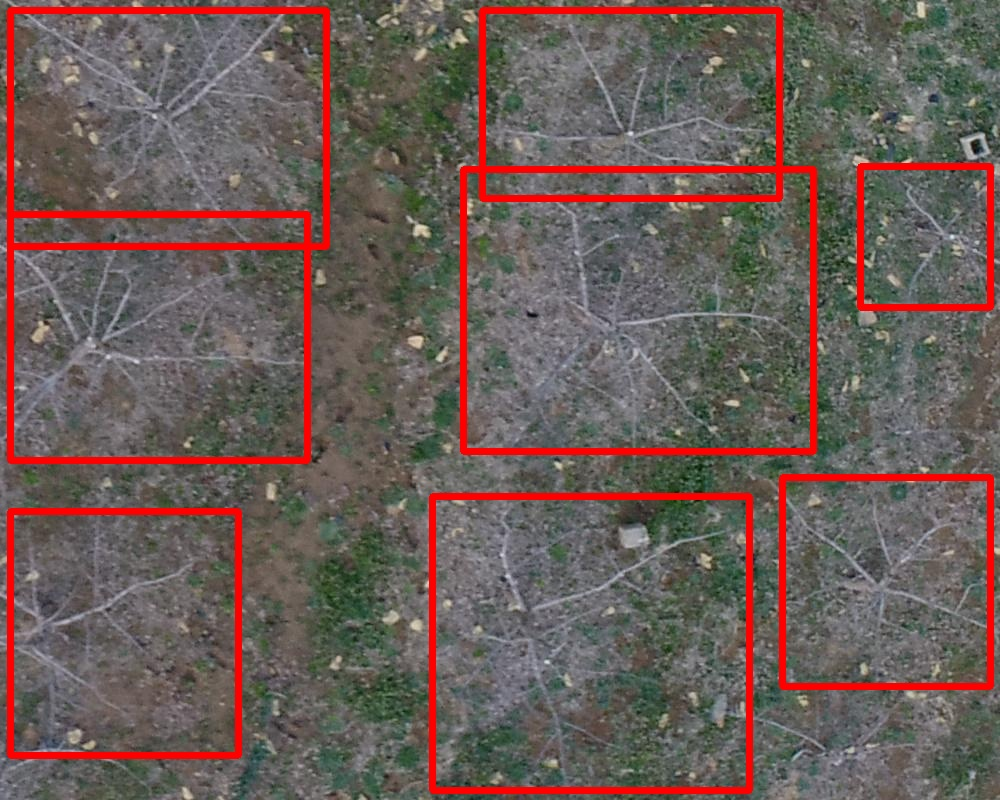apple: (463, 169, 813, 451), (432, 496, 749, 790), (10, 10, 326, 246), (10, 214, 307, 460), (482, 10, 779, 198), (10, 511, 238, 755), (782, 477, 990, 686), (860, 166, 990, 307)
